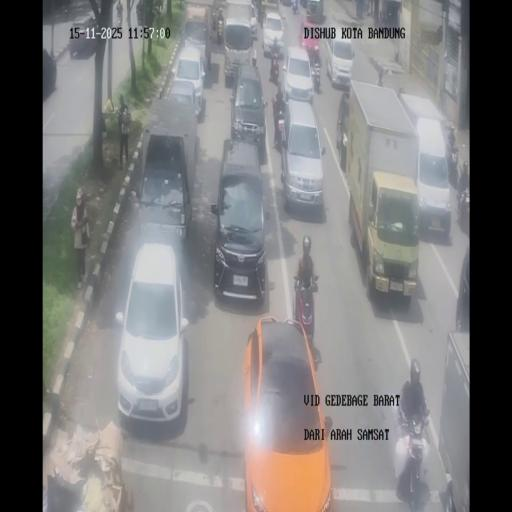car: (240, 316, 330, 509), (115, 240, 188, 426), (212, 139, 268, 301), (280, 100, 325, 215), (228, 62, 267, 162), (172, 47, 205, 119), (282, 44, 314, 106), (325, 34, 354, 90), (68, 14, 99, 59), (224, 0, 256, 41), (336, 92, 350, 168), (262, 10, 285, 56), (300, 24, 320, 62), (306, 0, 324, 23)
motorcycle: (393, 399, 431, 506), (292, 272, 318, 350), (456, 188, 470, 236), (446, 137, 460, 183), (272, 103, 285, 152), (310, 54, 322, 94), (269, 51, 279, 83), (257, 0, 266, 27), (136, 2, 145, 25), (216, 16, 223, 44), (100, 112, 106, 141), (116, 2, 123, 26), (376, 67, 384, 87), (212, 7, 218, 32), (378, 8, 386, 23), (251, 47, 257, 67), (363, 0, 369, 18), (291, 1, 299, 14), (63, 5, 69, 22), (251, 1, 257, 17), (398, 85, 404, 99)
truck: (345, 78, 420, 299), (135, 103, 197, 249), (437, 332, 469, 509), (398, 94, 448, 152)
